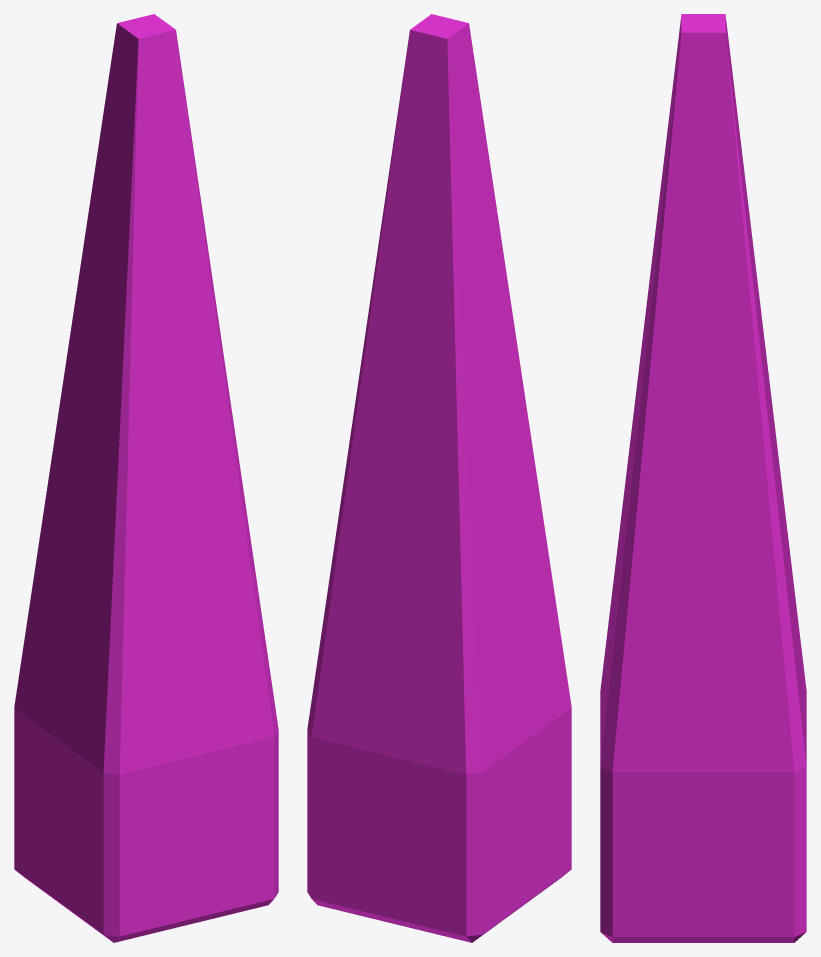
File: Obstract.obj
The picture shows the model from 3 angles, left to right: view 1: azimuth 30°, elevation 25°; view 2: azimuth 150°, elevation 25°; view 3: azimuth 270°, elevation 25°; orthographic projection.
Visible parts, largest first — view 1: Obstract_立方体; view 2: Obstract_立方体; view 3: Obstract_立方体.
Boxes of the visible parts, x1,y1,x2,y2 form: Obstract_立方体: (14,14,278,942); Obstract_立方体: (307,14,571,942); Obstract_立方体: (600,14,806,942).
Bounding box in the file's own units: 1 × 4.72 × 1.
1 material, 1 textured.
